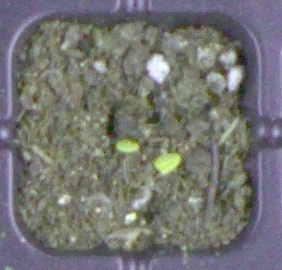chilli seed: (153, 152, 182, 174), (114, 138, 140, 152)
